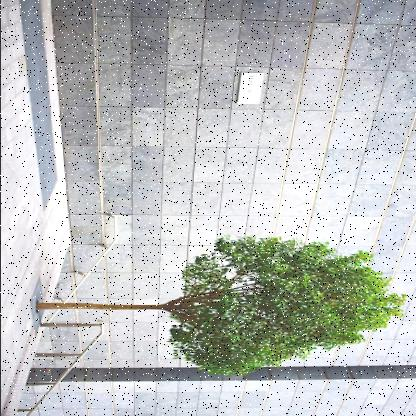Tree: (34, 236, 410, 376)
